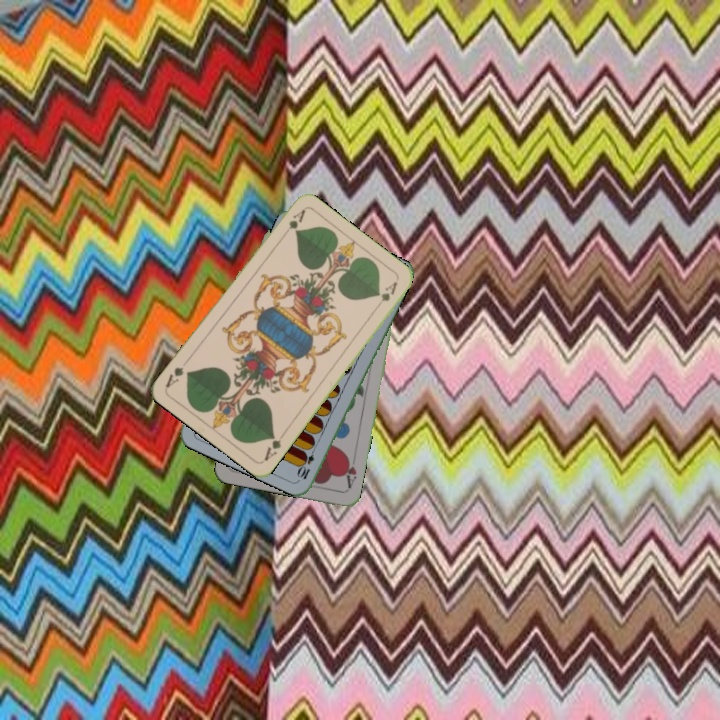E10: (295, 442, 318, 482)
GA: (277, 206, 308, 241), (260, 428, 288, 464)
HA: (340, 451, 359, 491)
